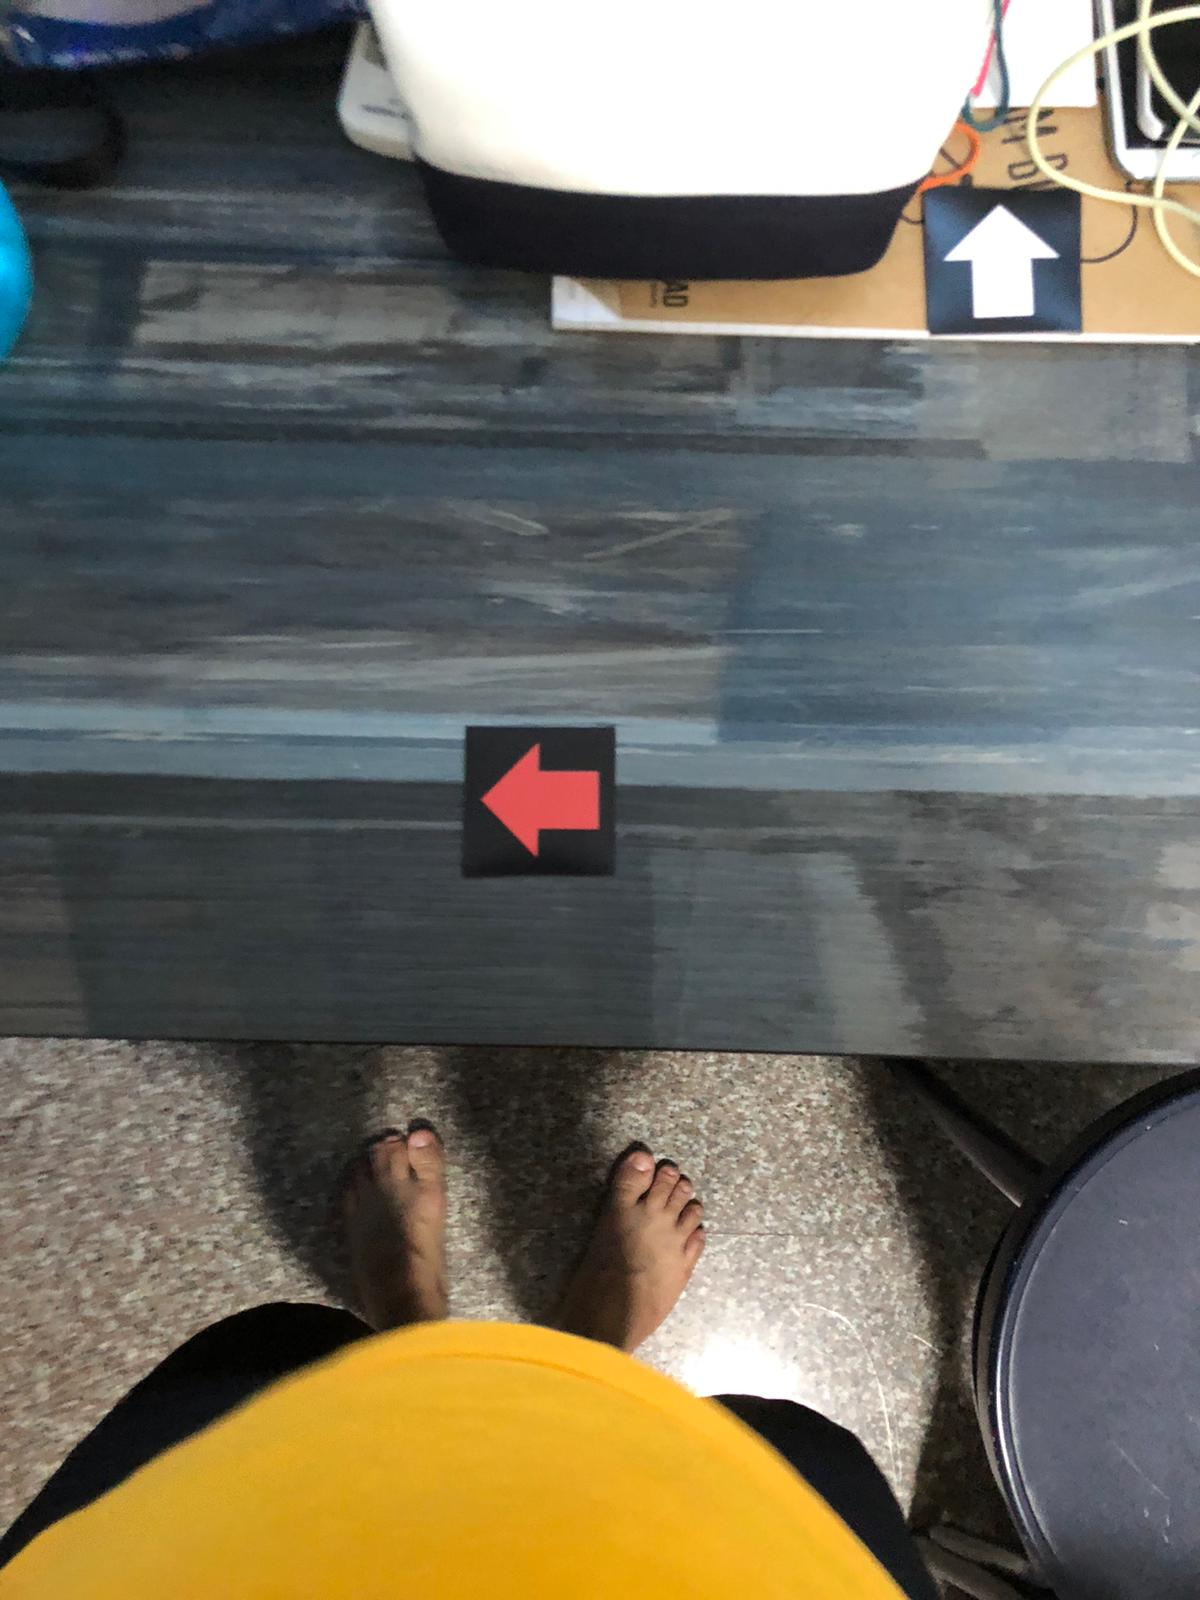Left Arrow: (470, 736, 615, 871)
